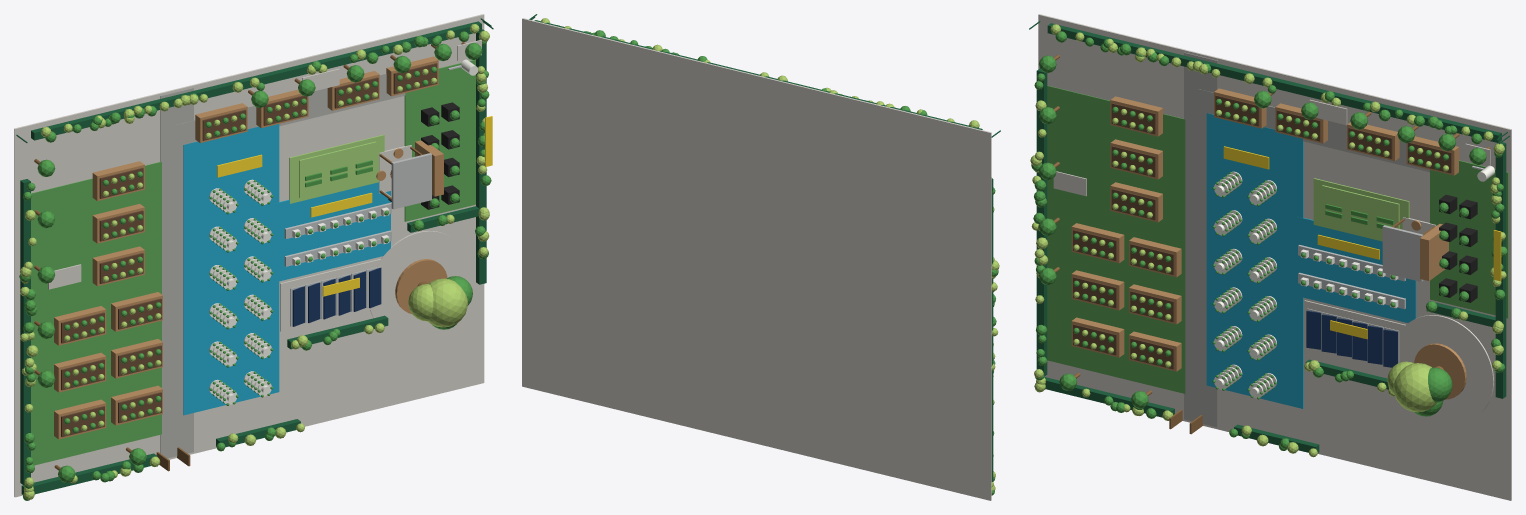
The model's file is garden-model.glb.
3 renders of one model, left to right at view 1: azimuth 30°, elevation 25°; view 2: azimuth 150°, elevation 25°; view 3: azimuth 330°, elevation 25°, orthographic.
Visible parts, largest first — view 1: overall_site_base_23_07m_x_17_30m, plot_A_green_base, hydroponics_A_blue_zone_68sqm, existing_paved_ground_vertical_strip, hydroponics_B_blue_zone_22sqm, composting_green_zone, large_existing_tree_circular_paving, perimeter_hedge_top_base, perimeter_hedge_left_base, shelter_roof, existing_paved_ground_top_strip, solar_farm_footprint_15sqm (+45 smaller); view 2: overall_site_base_23_07m_x_17_30m, perimeter_hedge_left_base, perimeter_hedge_top_base; view 3: overall_site_base_23_07m_x_17_30m, plot_A_green_base, hydroponics_A_blue_zone_68sqm, existing_paved_ground_vertical_strip, composting_green_zone, hydroponics_B_blue_zone_22sqm, large_existing_tree_circular_paving, perimeter_hedge_top_base, shelter_roof, perimeter_hedge_right_base, perimeter_hedge_left_base, existing_paved_ground_top_strip (+49 smaller).
Boxes of the visible parts, x1,y1,x2,y2 form: overall_site_base_23_07m_x_17_30m: (14,14,484,497); plot_A_green_base: (31,162,161,465); hydroponics_A_blue_zone_68sqm: (183,124,279,415); existing_paved_ground_vertical_strip: (160,88,193,458); hydroponics_B_blue_zone_22sqm: (271,182,390,283); composting_green_zone: (404,59,475,221); large_existing_tree_circular_paving: (370,230,468,338); perimeter_hedge_top_base: (31,21,481,140); perimeter_hedge_left_base: (20,179,30,485); shelter_roof: (391,153,431,209); existing_paved_ground_top_strip: (175,73,405,151); solar_farm_footprint_15sqm: (280,259,381,331); overall_site_base_23_07m_x_17_30m: (522,18,991,500); perimeter_hedge_left_base: (991,178,993,481); perimeter_hedge_top_base: (534,20,982,129); overall_site_base_23_07m_x_17_30m: (1038,14,1511,500); plot_A_green_base: (1047,85,1185,393); hydroponics_A_blue_zone_68sqm: (1206,113,1303,408); existing_paved_ground_vertical_strip: (1184,52,1217,427); composting_green_zone: (1430,160,1508,318); hydroponics_B_blue_zone_22sqm: (1294,216,1416,322); large_existing_tree_circular_paving: (1399,315,1493,423); perimeter_hedge_top_base: (1047,23,1501,142); shelter_roof: (1382,225,1423,281); perimeter_hedge_right_base: (1495,142,1506,398); perimeter_hedge_left_base: (1036,68,1047,376); existing_paved_ground_top_strip: (1198,89,1429,172).
Bounding box in the file's own units: 23.19 × 17.39 × 3.31.
